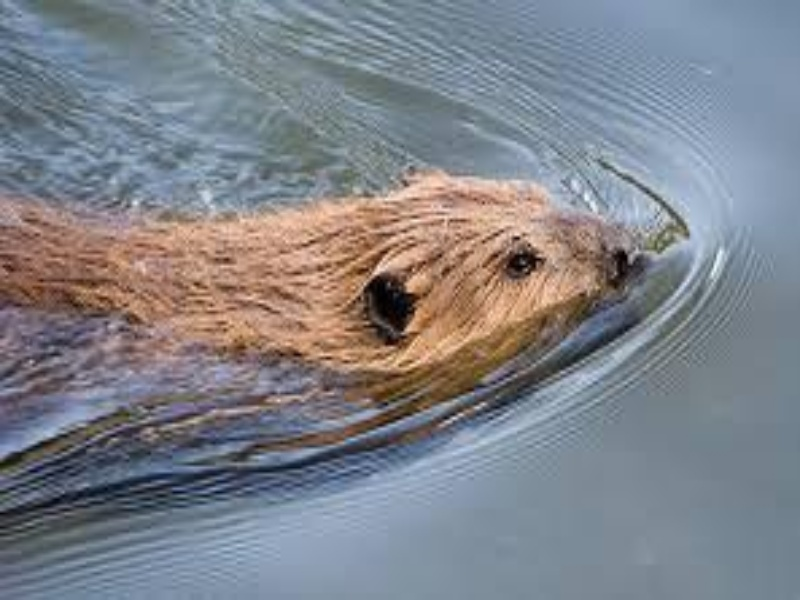minkish: (1, 155, 647, 442)
